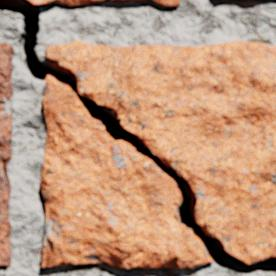brick: (0, 43, 14, 266), (245, 0, 268, 2)
broken_brick: (47, 41, 275, 262), (41, 76, 211, 267), (19, 0, 179, 7)
crack: (0, 0, 275, 275)
